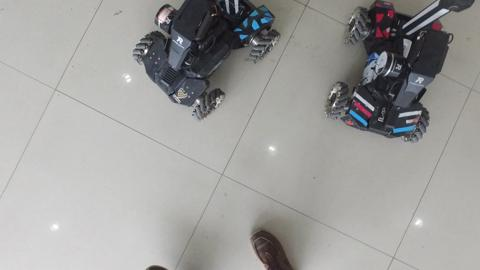chariot: (319, 1, 476, 150), (133, 1, 284, 127)
